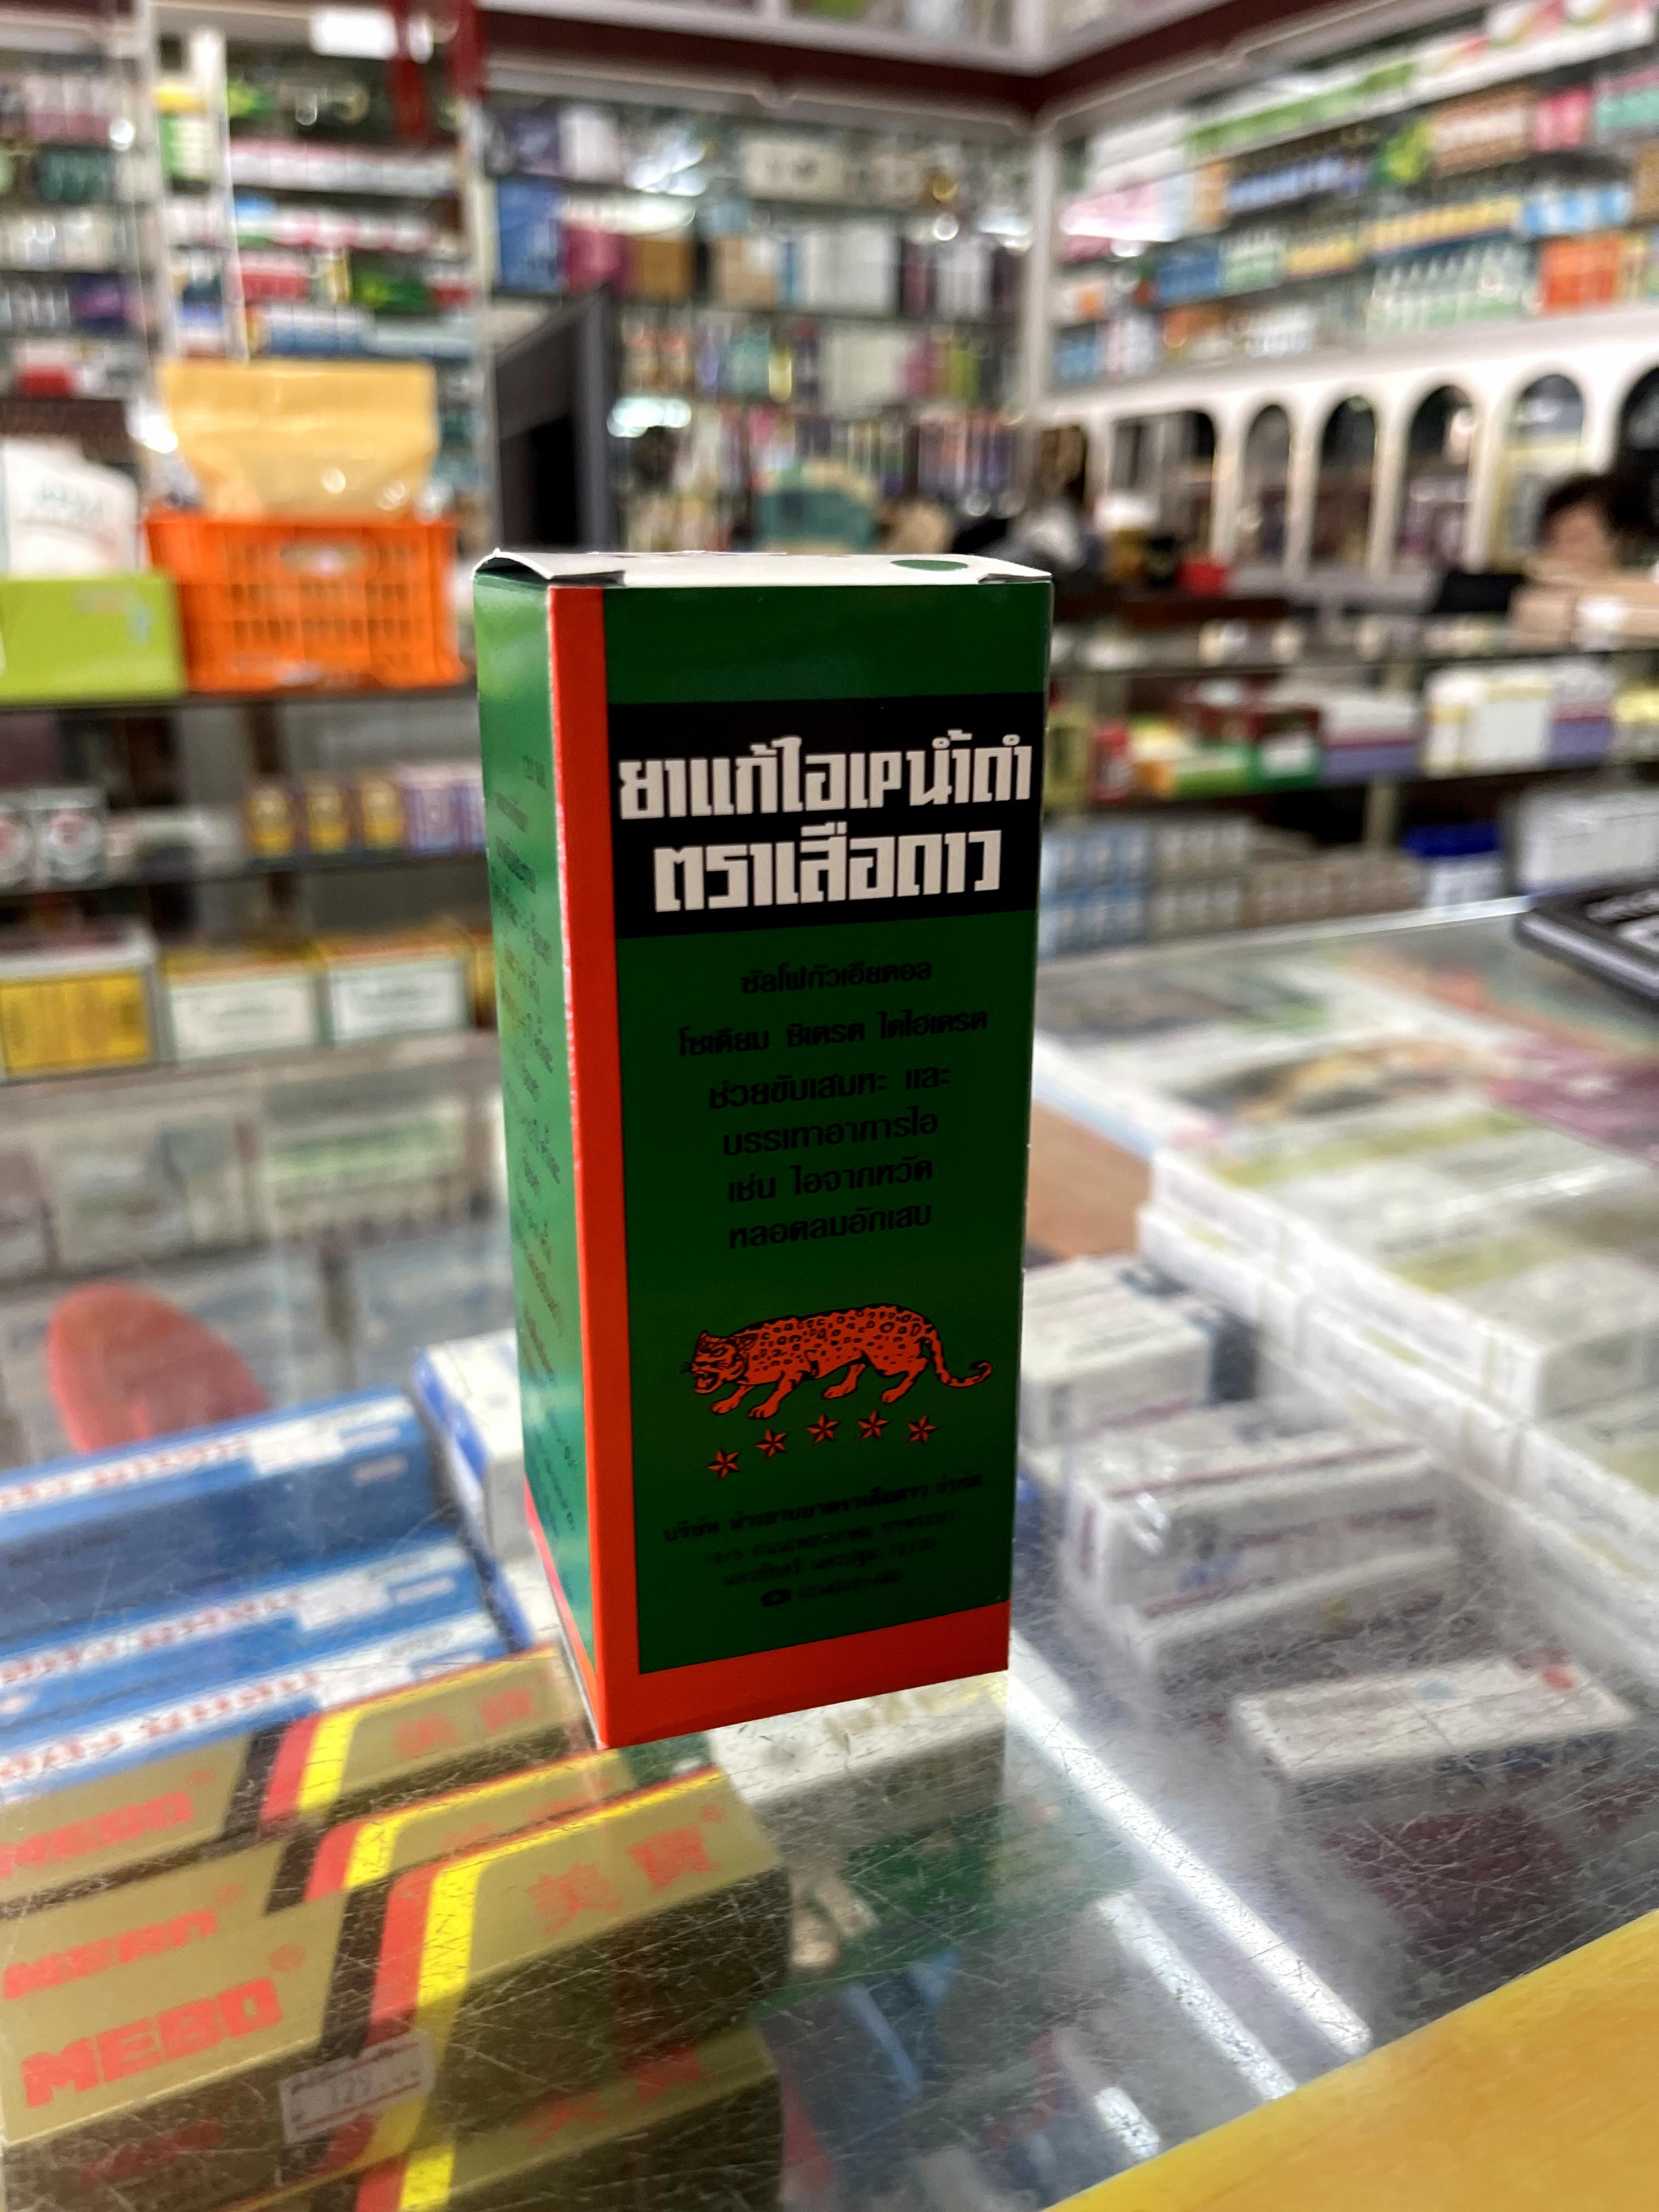Black-Tiger_Big: (477, 545, 1051, 1743)
